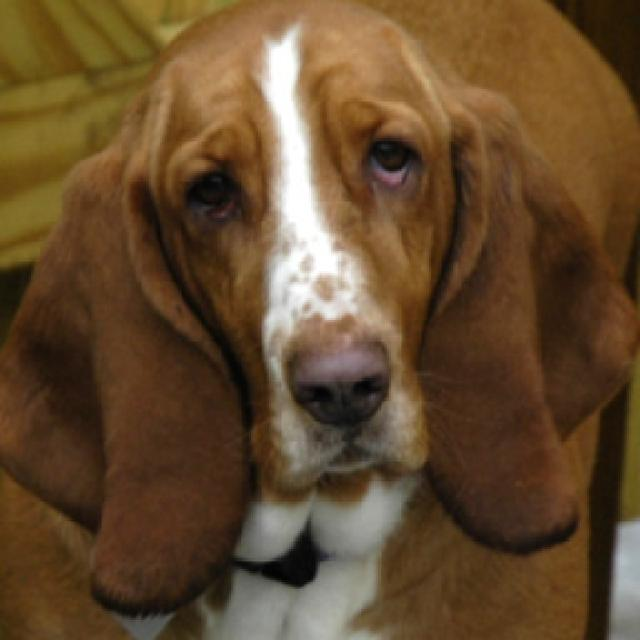dog-basset_hound: (2, 2, 636, 636)
